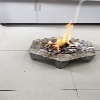fire: (45, 20, 74, 51)
